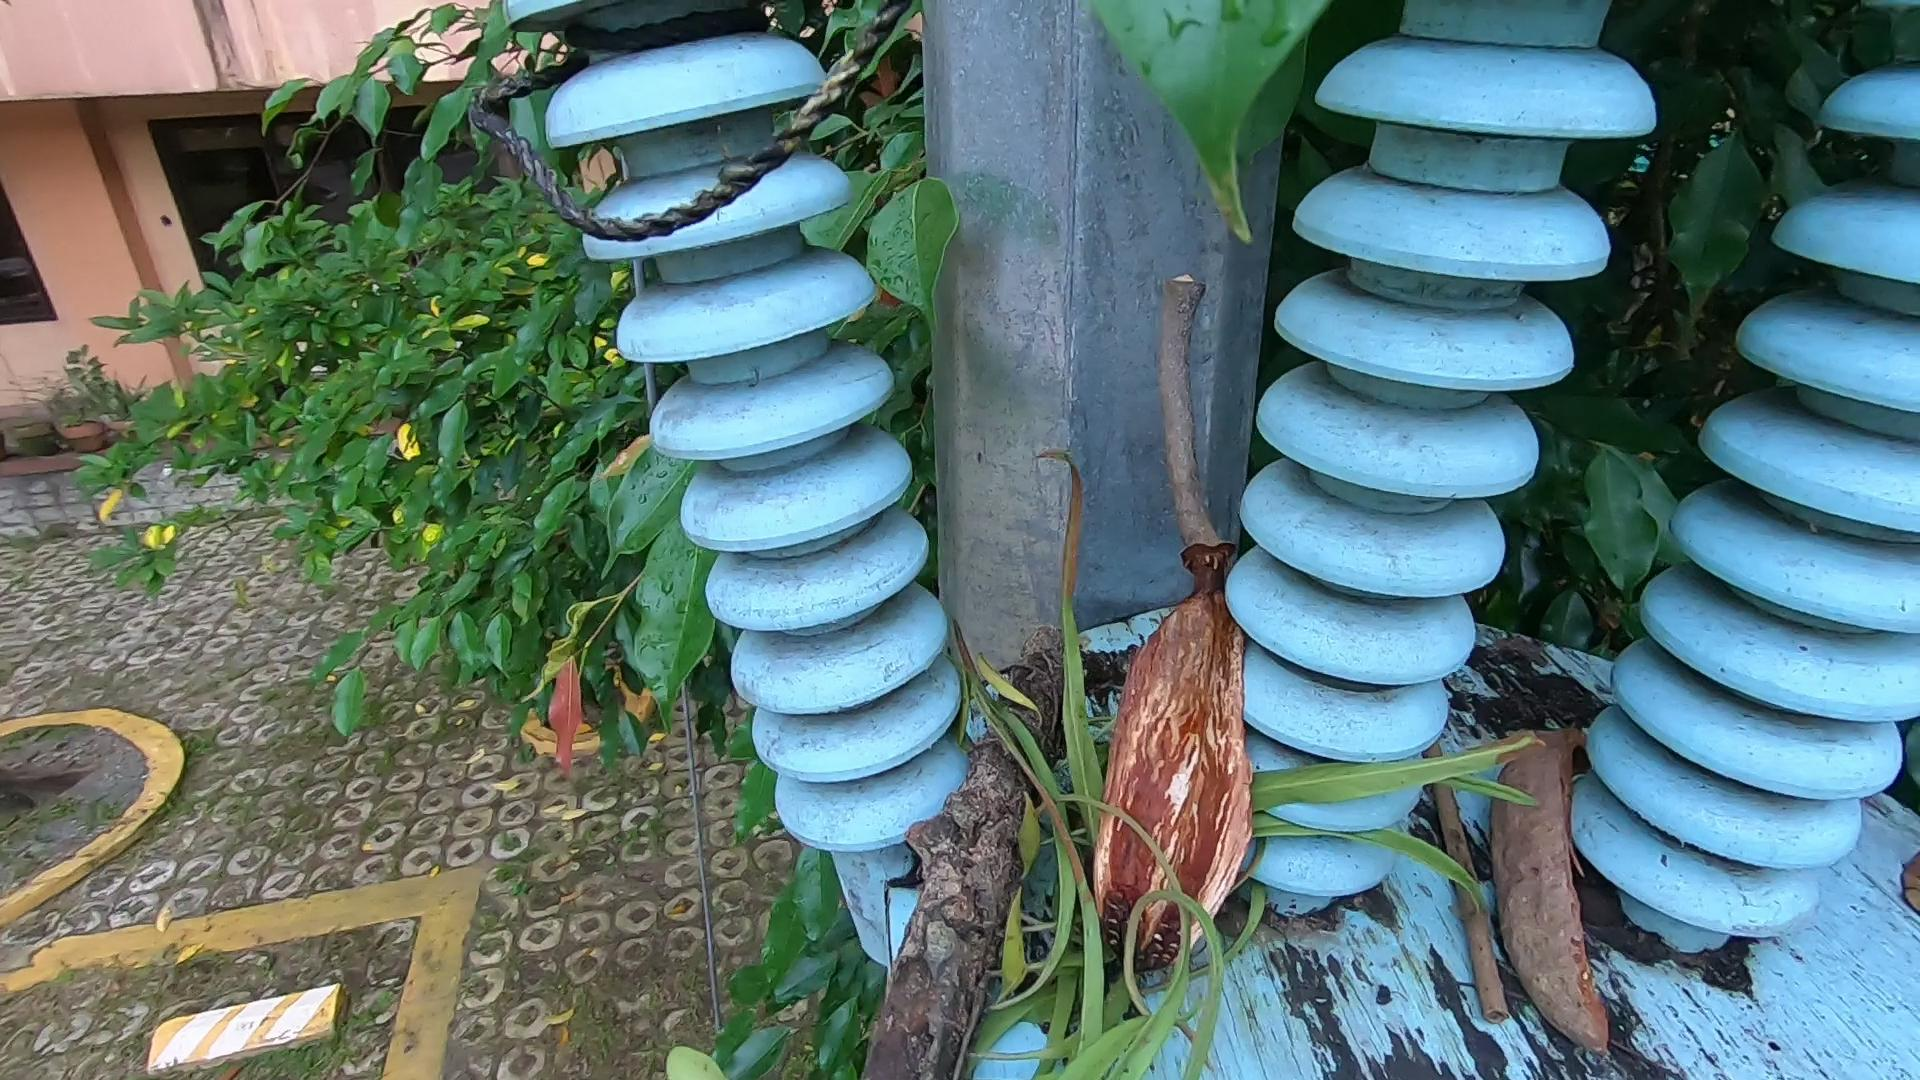branch with leaves: (856, 455, 1528, 1080)
leaf: (1894, 853, 1920, 903)
mahogany fruit: (1472, 731, 1679, 1067), (1118, 592, 1288, 978)
tree branch: (1145, 248, 1253, 574), (1420, 738, 1526, 1019)
